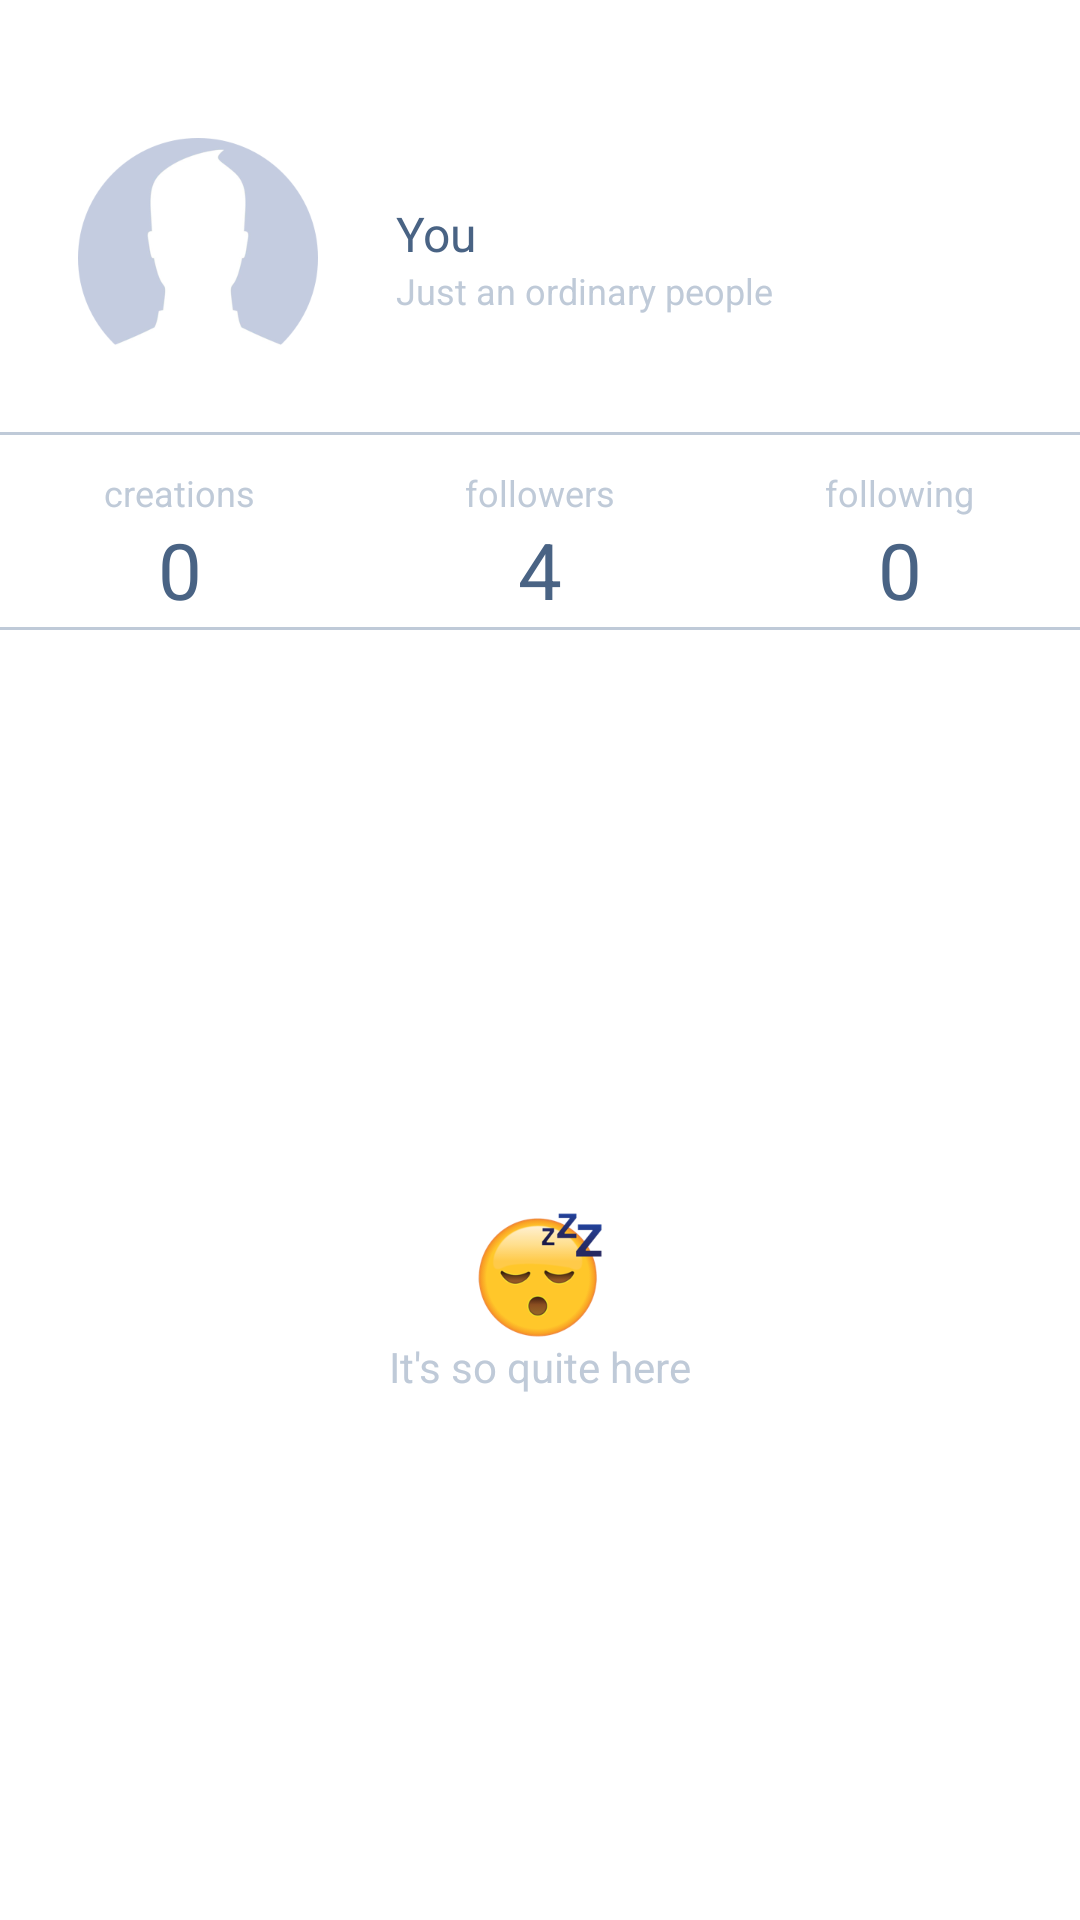

Icon click points for this 1080×1920 phone screenshot, format (x=x, y=y):
sleeping emoji: (x=540, y=1275)
